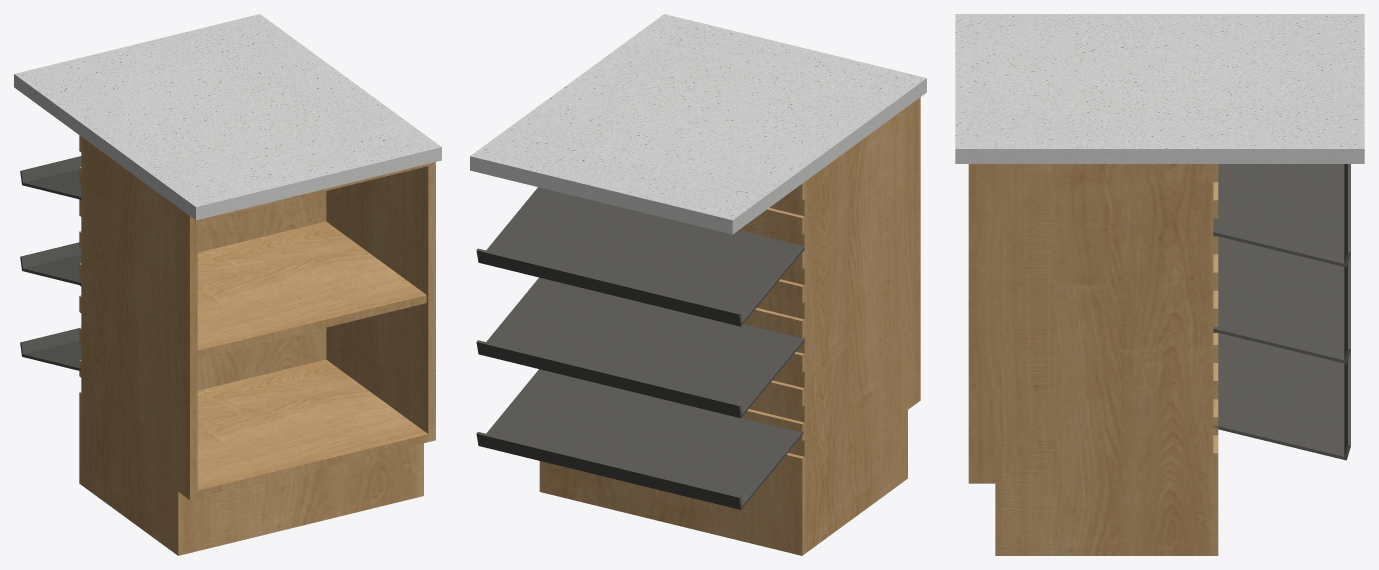
Rendered from blsh_2430.obj.
The picture shows the model from 3 angles, left to right: view 1: azimuth 30°, elevation 25°; view 2: azimuth 150°, elevation 25°; view 3: azimuth 270°, elevation 25°; orthographic projection. The views are drawn at different scales.
Parts seen in each view (by area): view 1: Body_2, Body_1, Body_3, Body_4, Body_5; view 2: Body_2, Body_1, Body_4, Body_5, Body_3; view 3: Body_2, Body_1, Body_4, Body_5, Body_3.
Boxes of the visible parts, left/top/right/bottom form: Body_2: left=79, top=135, right=435, bottom=555; Body_1: left=14, top=14, right=441, bottom=220; Body_3: left=20, top=156, right=81, bottom=200; Body_4: left=20, top=242, right=81, bottom=286; Body_5: left=20, top=328, right=81, bottom=370; Body_2: left=539, top=97, right=920, bottom=555; Body_1: left=470, top=14, right=926, bottom=234; Body_4: left=476, top=277, right=804, bottom=418; Body_5: left=476, top=369, right=803, bottom=509; Body_3: left=476, top=187, right=804, bottom=326; Body_2: left=968, top=164, right=1218, bottom=555; Body_1: left=955, top=14, right=1364, bottom=163; Body_4: left=1213, top=236, right=1350, bottom=363; Body_5: left=1213, top=333, right=1350, bottom=460; Body_3: left=1213, top=164, right=1350, bottom=267.
Size of the model in its own units: 0.6096 by 0.8572 by 0.781.
